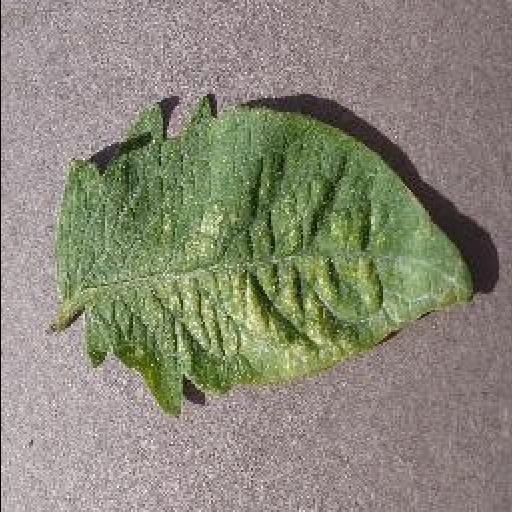disease_tomato: (56, 98, 474, 416)
